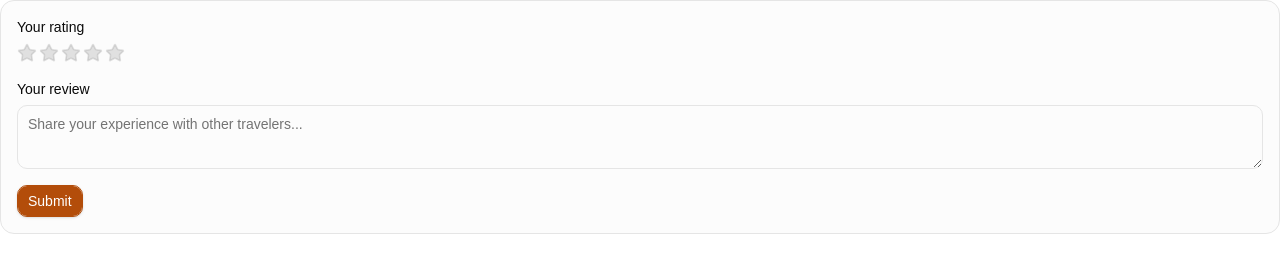
it: ReviewForm › blocks submit and shows an inline error when no rating is selected
Type "Great stay!" into the text box labelled "Your review".
click(640, 137); type("Great stay!")  # box x1=17 y1=105 x2=1263 y2=169
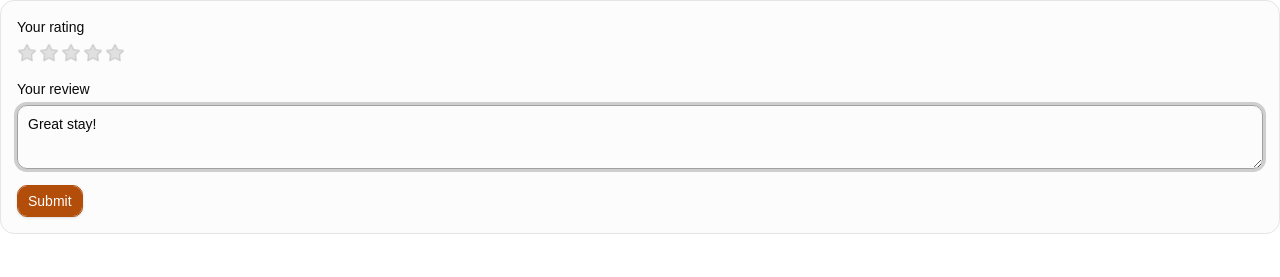
Click the button "Submit".
click(50, 201)  # box x1=17 y1=185 x2=83 y2=217
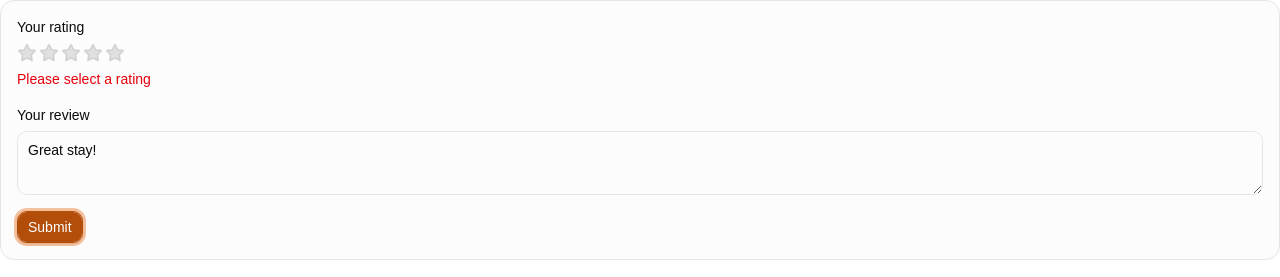
Now the text "Please select a rating" is shown, box x1=17 y1=71 x2=151 y2=87
